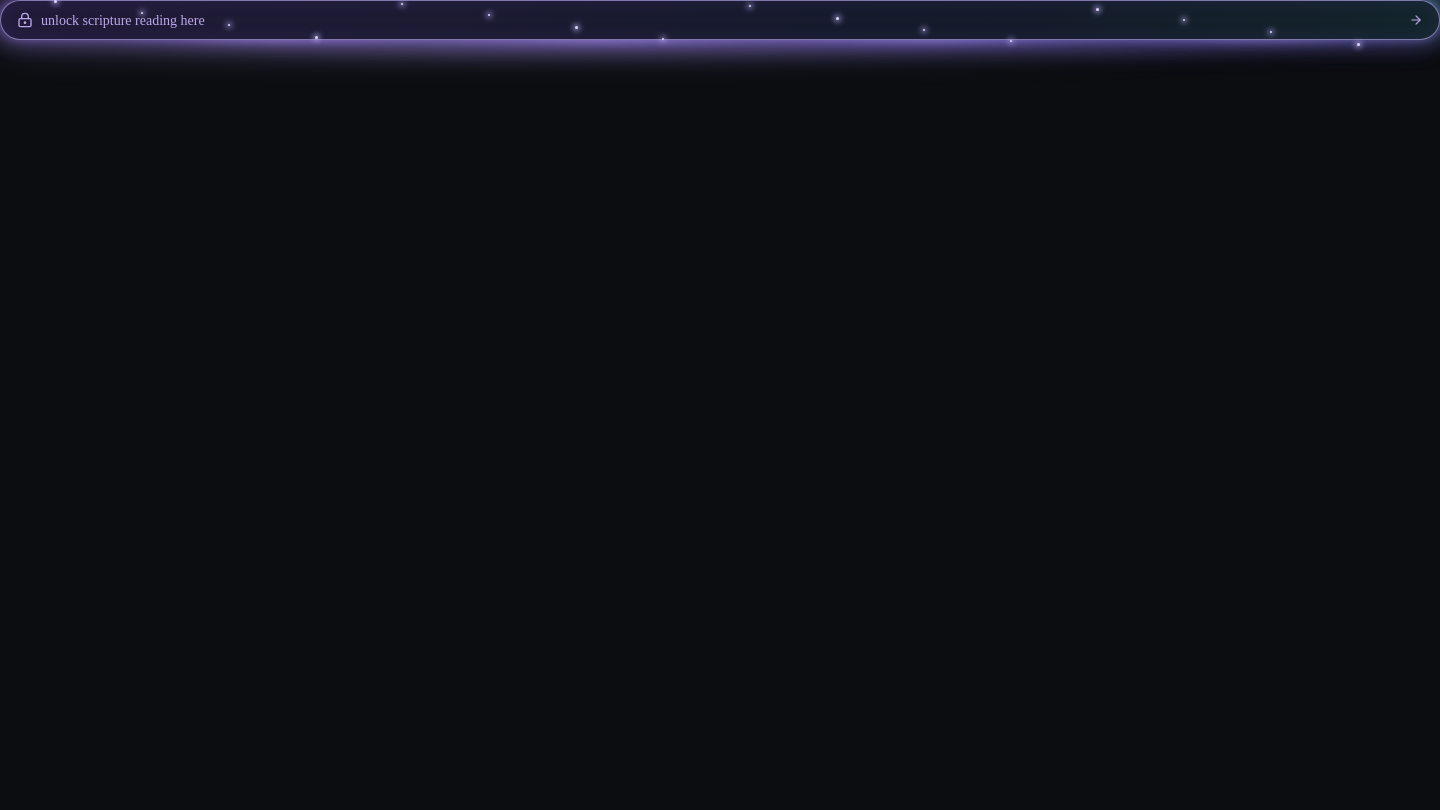
Test case: scripture search setup › opens quietly with a missing bridge and explains recovery only after submission
Click the button "unlock scripture reading here" at (123, 20), box [0,0,1439,40]
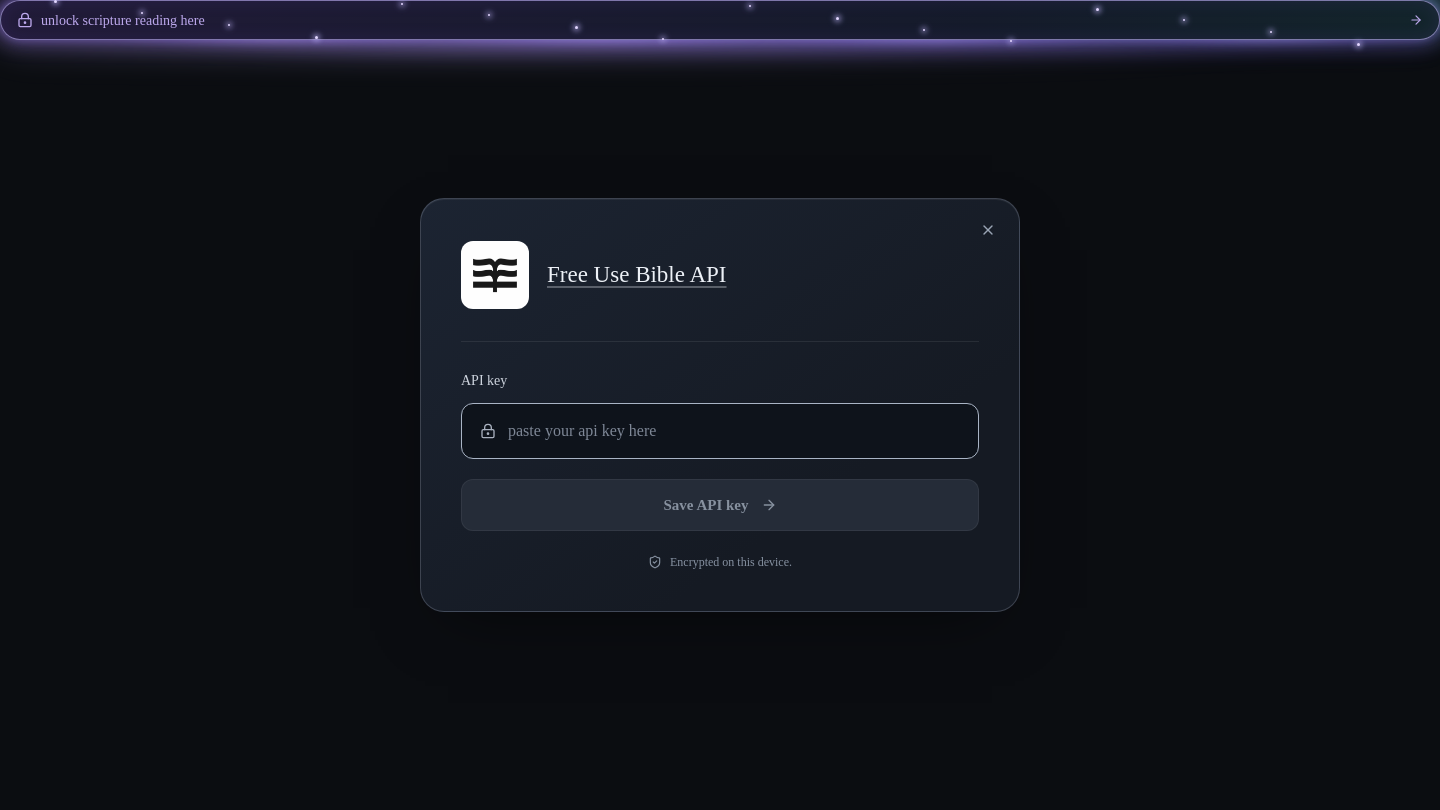
Expected: the dialog "Free Use Bible API" is shown, [420,198,1020,612]
Expected: the password field named "API.Bible API key" is enabled
Type "synthetic-test-key" into the password field named "API.Bible API key" at (734, 431), box [508,404,960,458]
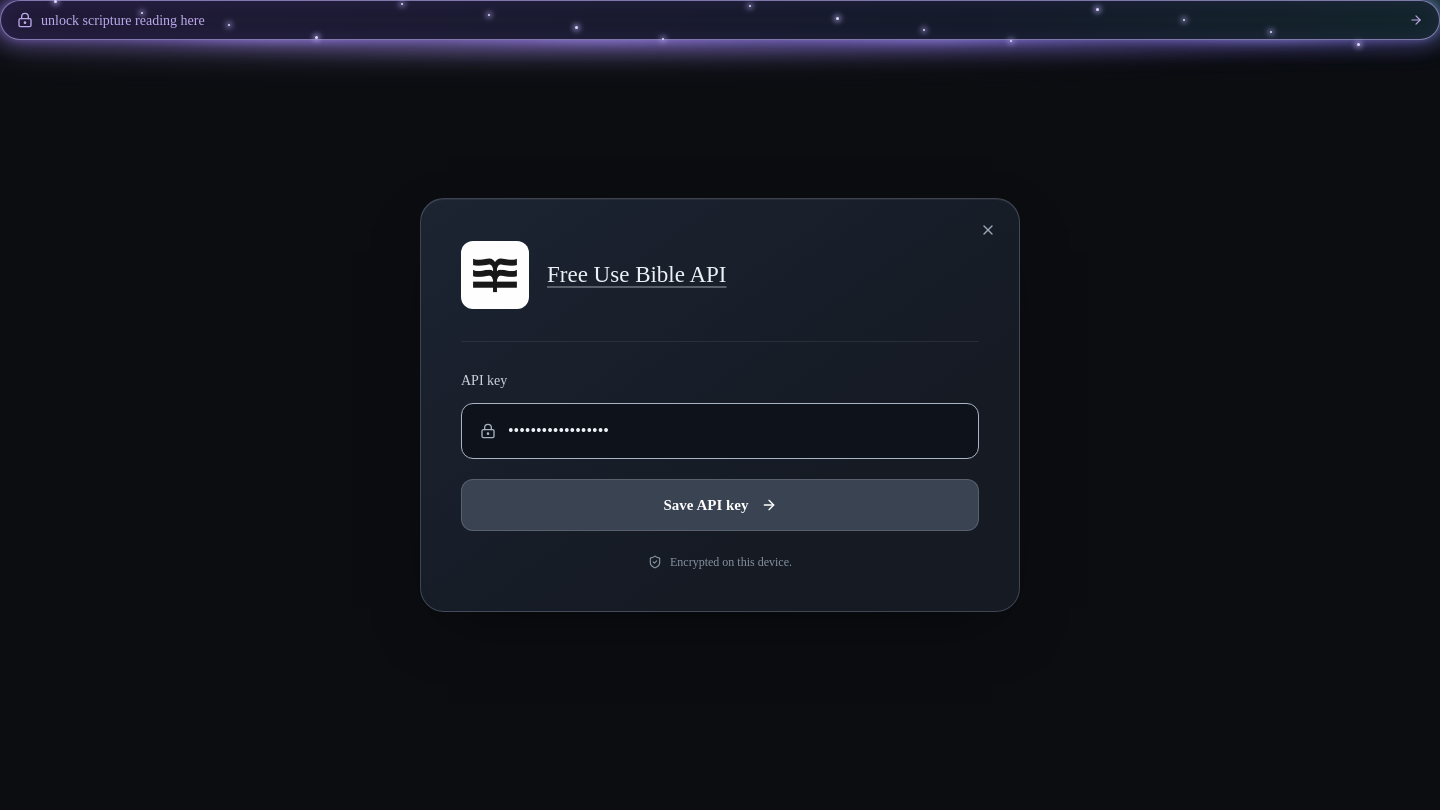
Submit the form named "Scripture search setup", box [461,341,979,531]
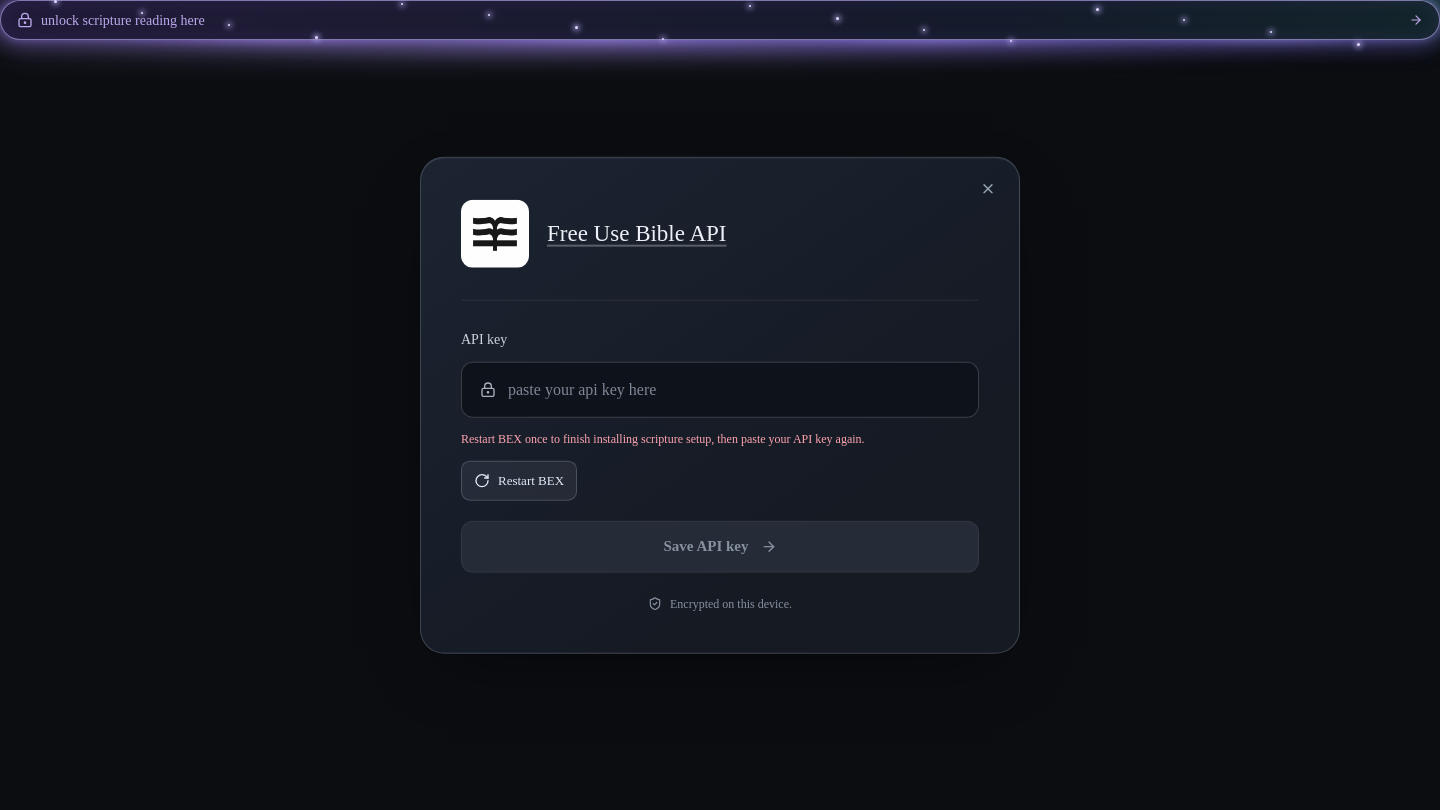
Expected: the message shows "Restart BEX once", [461,432,865,446]
Expected: the password field named "API.Bible API key" is empty, [508,363,960,417]
